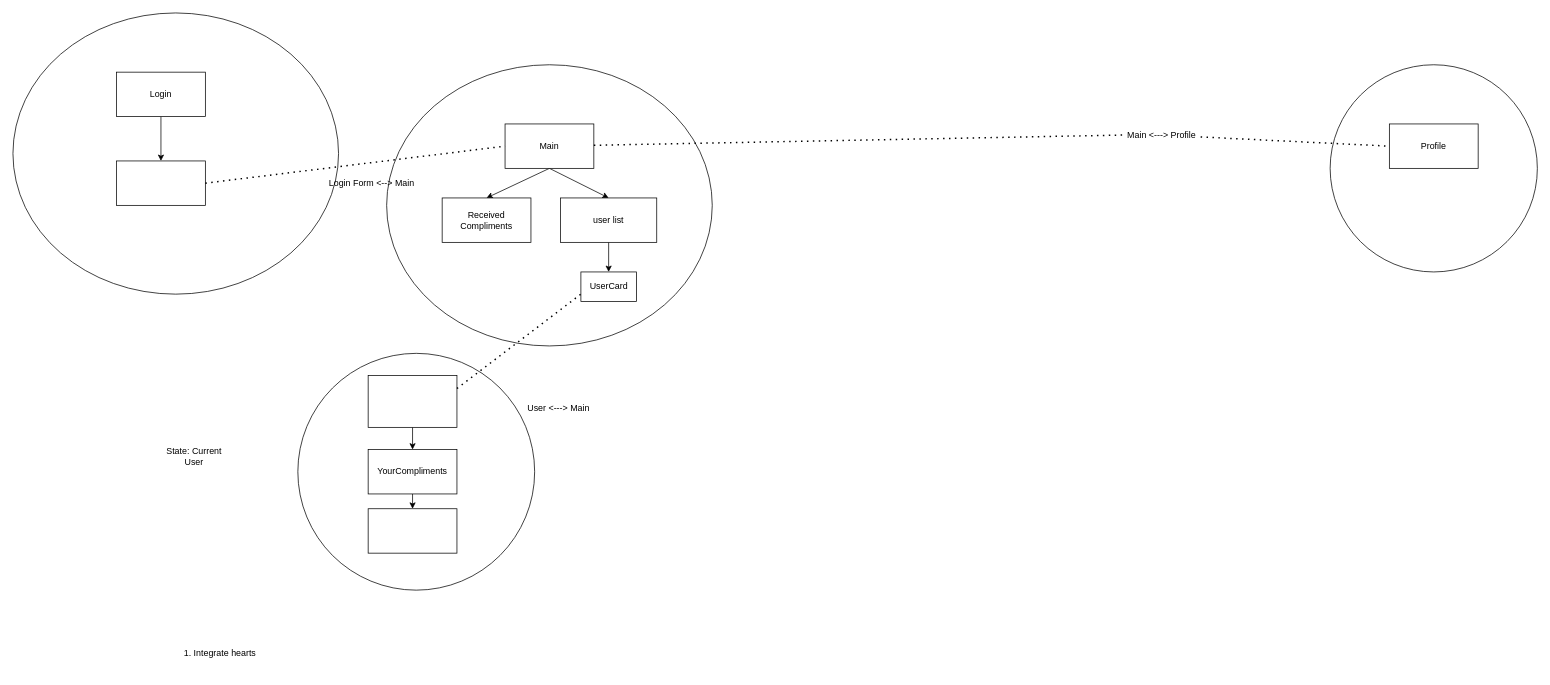
Image size: 1550x685. Some labels were removed from this diagram. The box of each missing label's shape, as (x1, y1, x2, y2) in pixels:
Compliment: (367, 508, 457, 553)
Login Form: (116, 160, 205, 205)
User: (367, 375, 457, 427)
